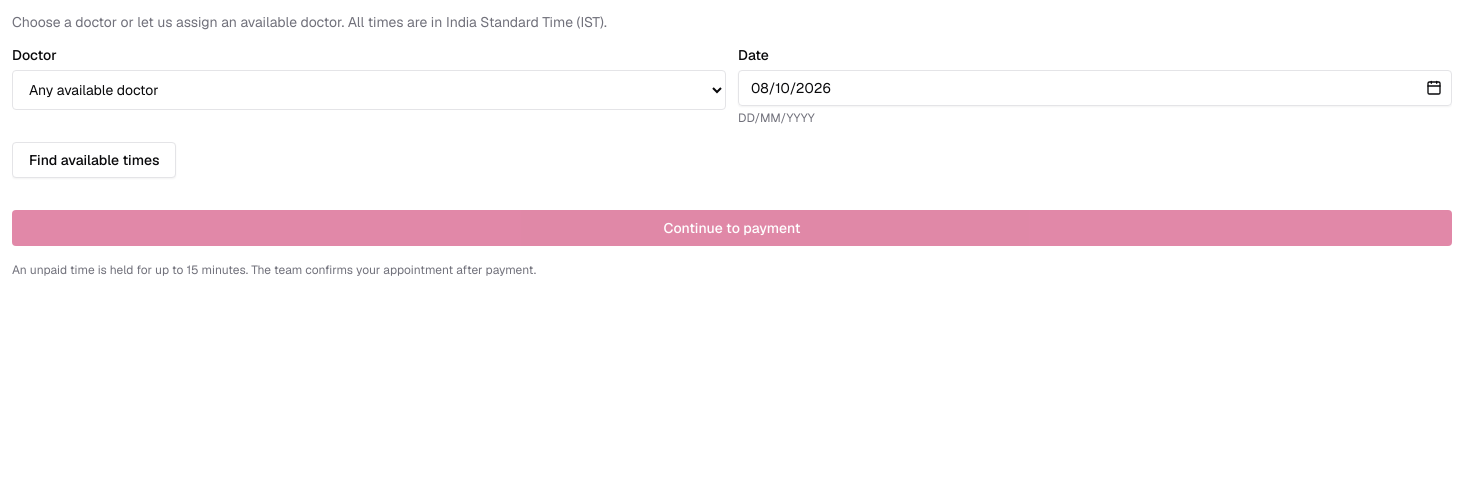
consultation duration limit › rejects a typed end time beyond the limit
Step 1. Replace the text in the field labelled "Date" with "05/10/2099" → (1095, 88), box top-left (738, 70), bottom-right (1452, 106)
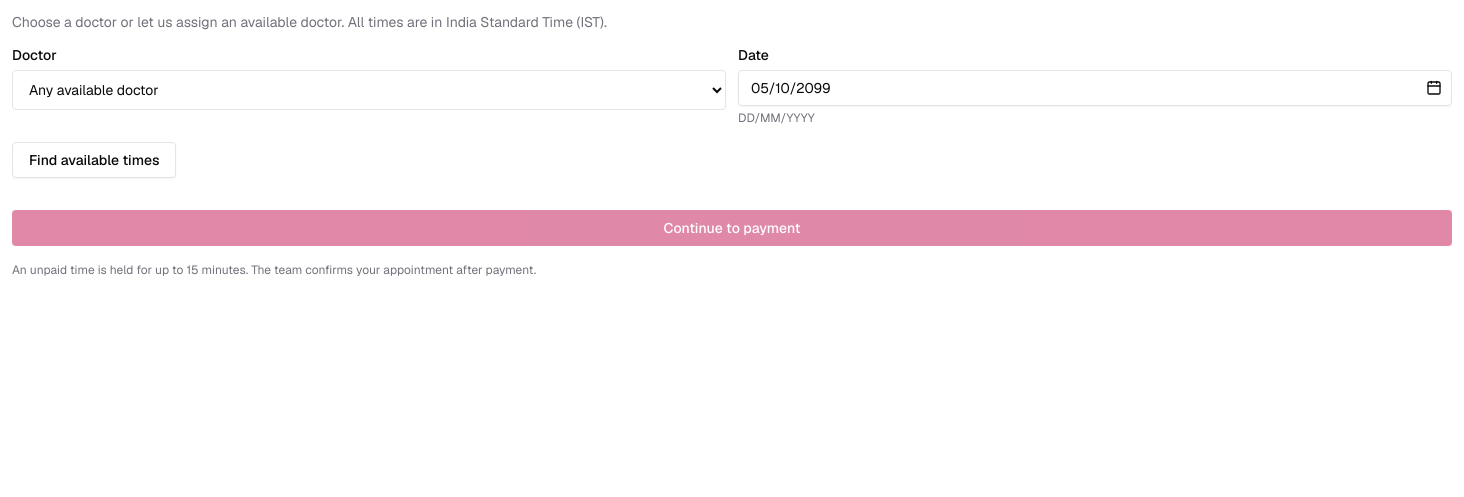
Step 2. Click the button "Find available times" → (94, 160), box top-left (12, 142), bottom-right (176, 178)
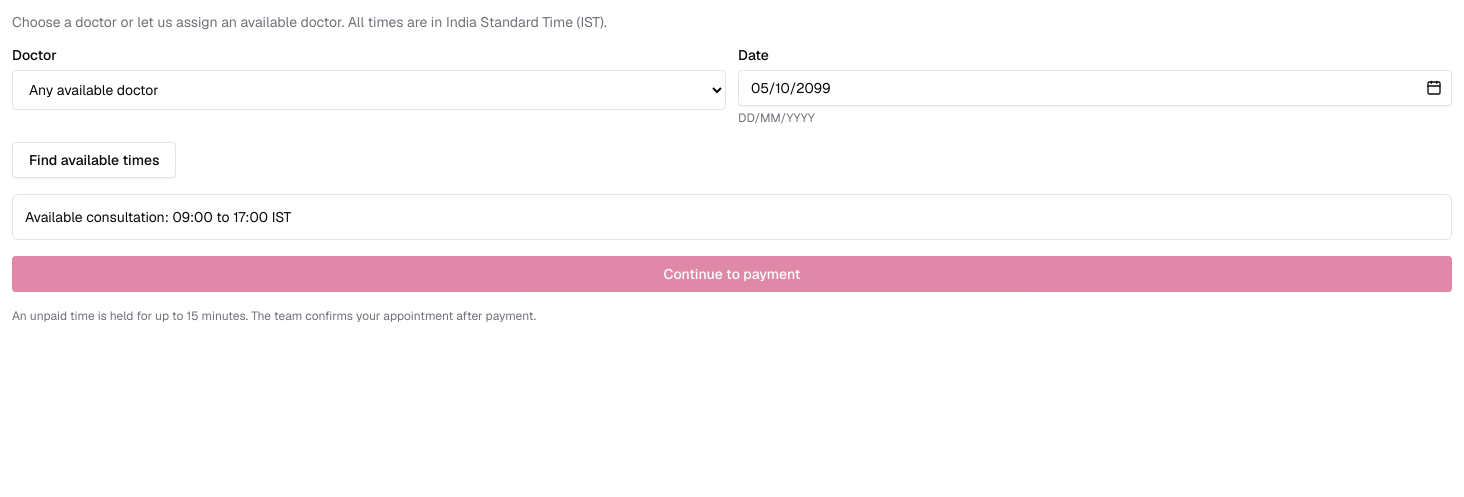
Step 3. Click the button "Available consultation: 09:00 to 17:00 IST" → (95, 217), box top-left (12, 194), bottom-right (1452, 240)
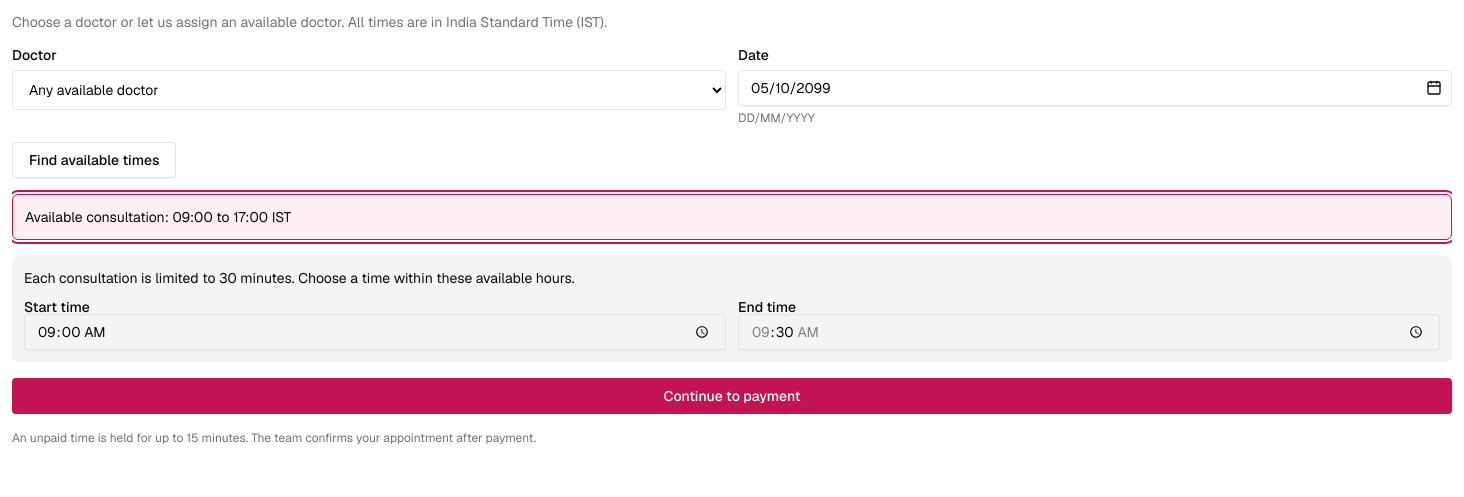
Step 4. Replace the text in the time field labelled "End time" with "09:31" → (1089, 332), box top-left (738, 314), bottom-right (1440, 350)
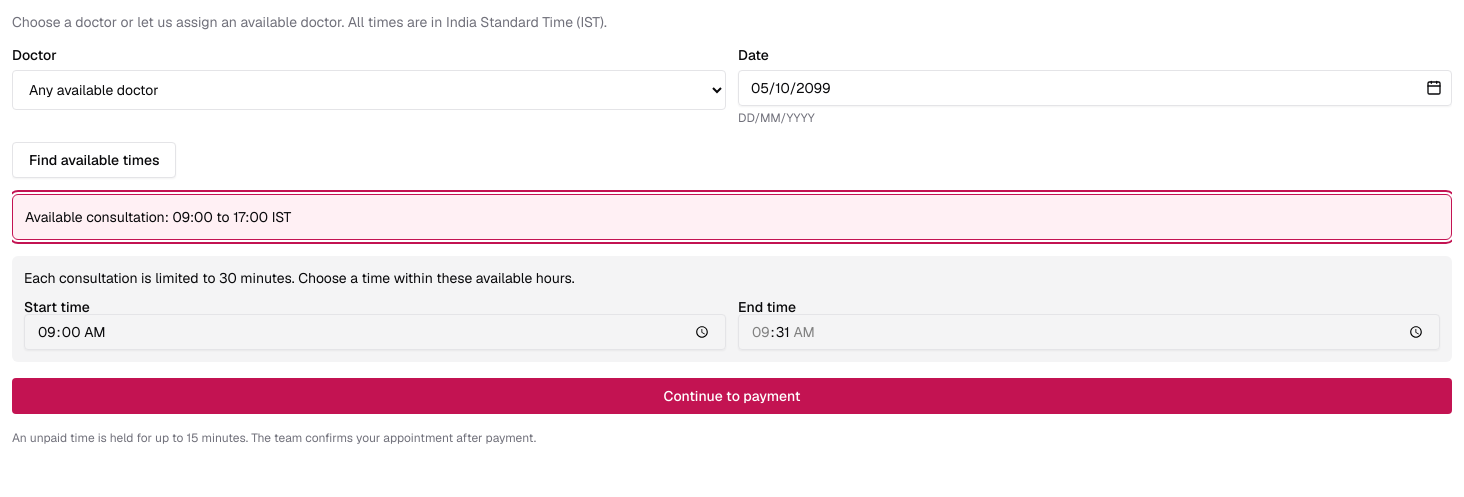
Step 5. Click the button "Continue to payment" → (732, 396), box top-left (12, 378), bottom-right (1452, 414)
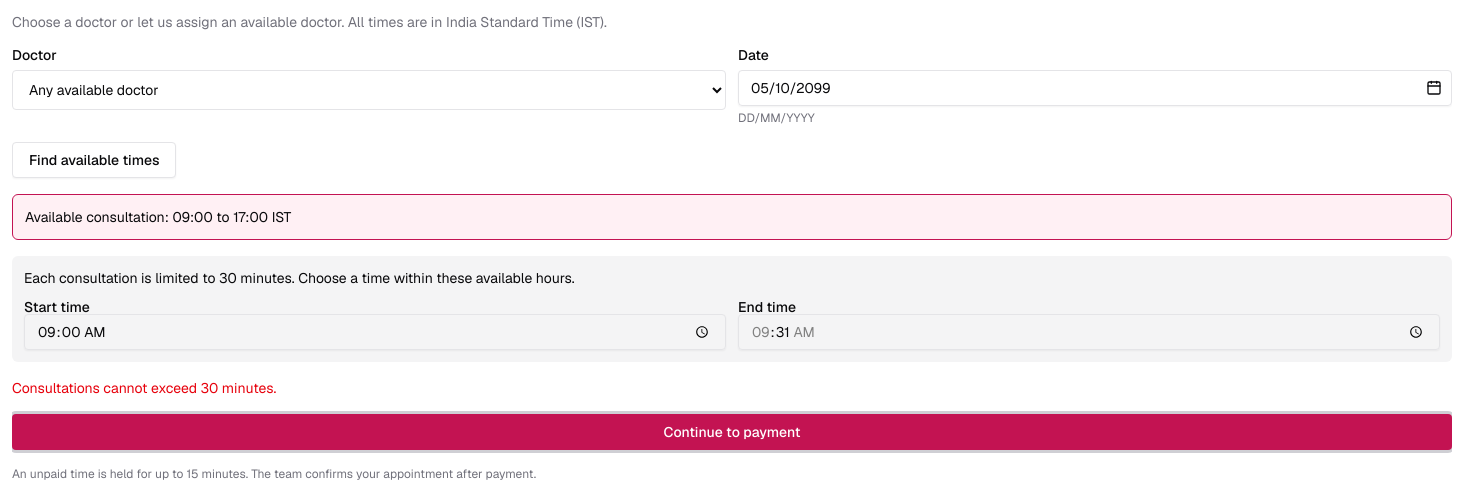
Check: the message reads "Consultations cannot exceed 30 minutes.", box top-left (12, 379), bottom-right (276, 397)
